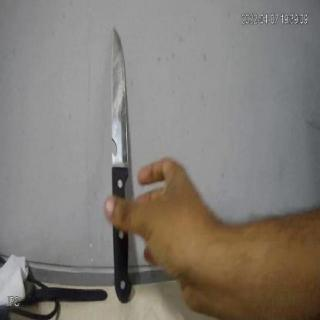knife: (106, 21, 146, 305)
